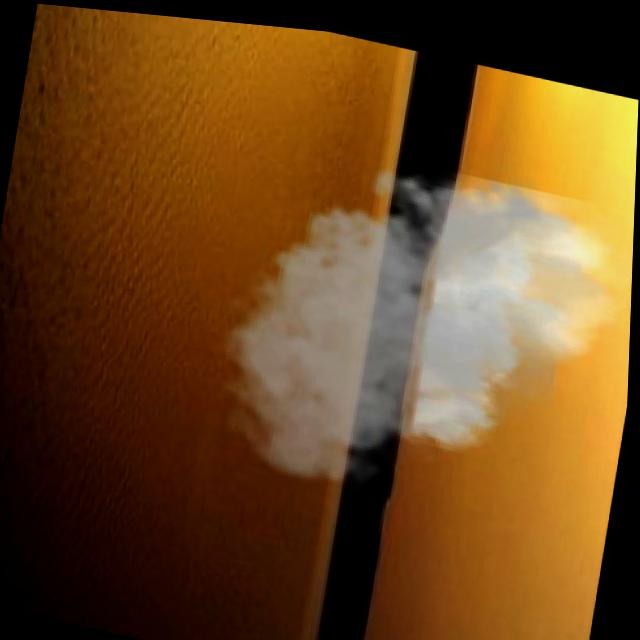no_helmet: (192, 105, 636, 536)
